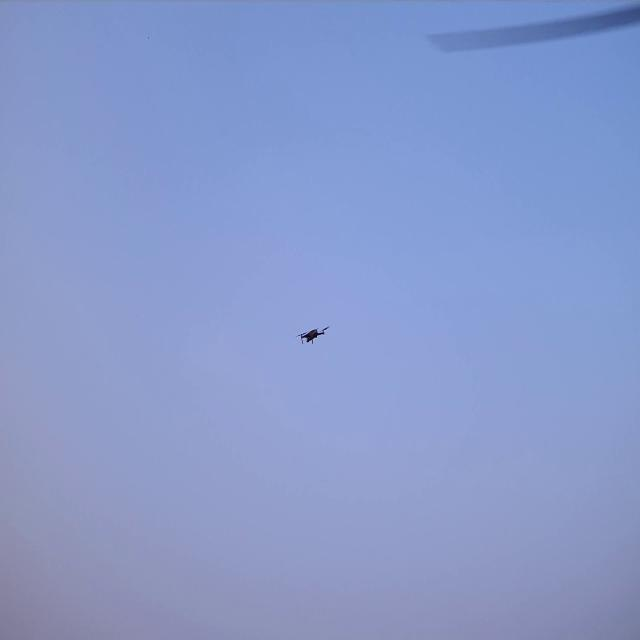UAV: (297, 322, 328, 345)
